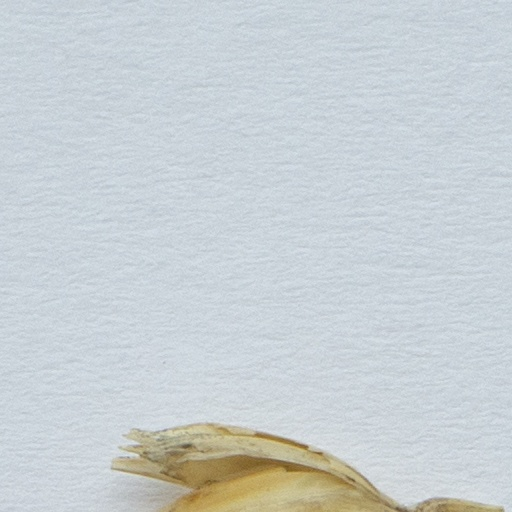Peel-poly: (111, 421, 511, 511)
